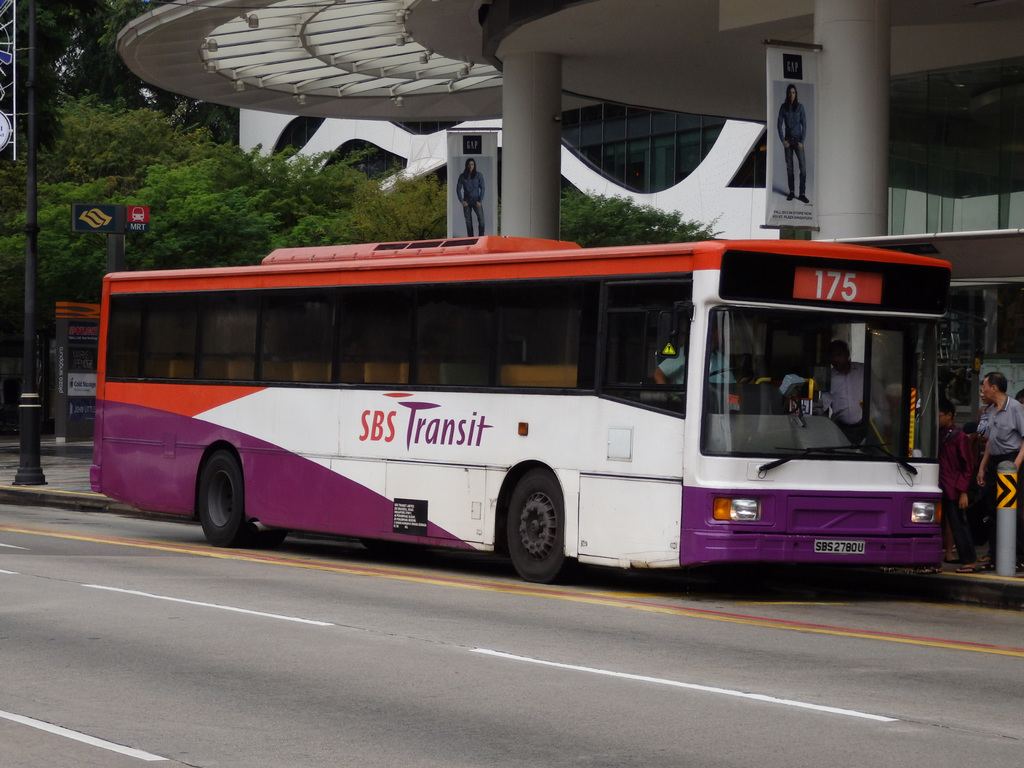Bus: (88, 233, 951, 584)
